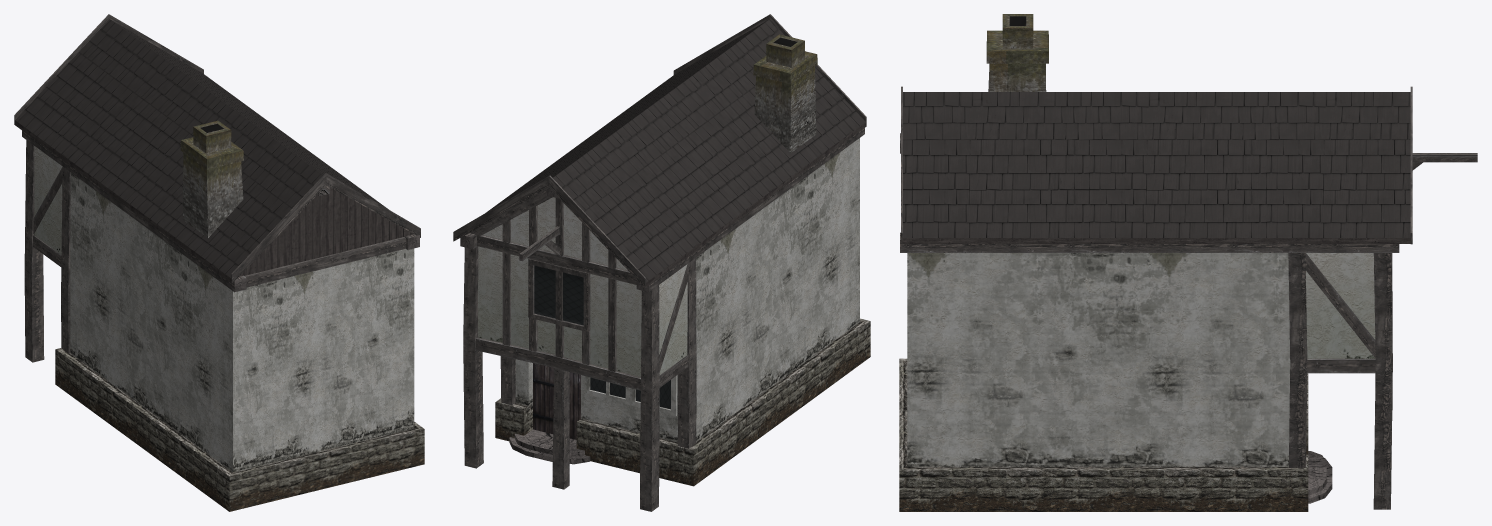
File: poorfolks_urban_housing_side2.FBX
3 views of the same model, side by side, from view 1: azimuth 30°, elevation 25°; view 2: azimuth 150°, elevation 25°; view 3: azimuth 270°, elevation 25° (orthographic). The views are drawn at different scales.
Visible parts, largest first — view 1: poorfolks_house_side_shop; view 2: poorfolks_house_side_shop; view 3: poorfolks_house_side_shop.
Boxes of the visible parts, x1,y1,x2,y2 form: poorfolks_house_side_shop: (14, 14, 424, 511); poorfolks_house_side_shop: (453, 14, 870, 511); poorfolks_house_side_shop: (899, 14, 1477, 511).
Size of the model in its own units: 361 by 788 by 598.
